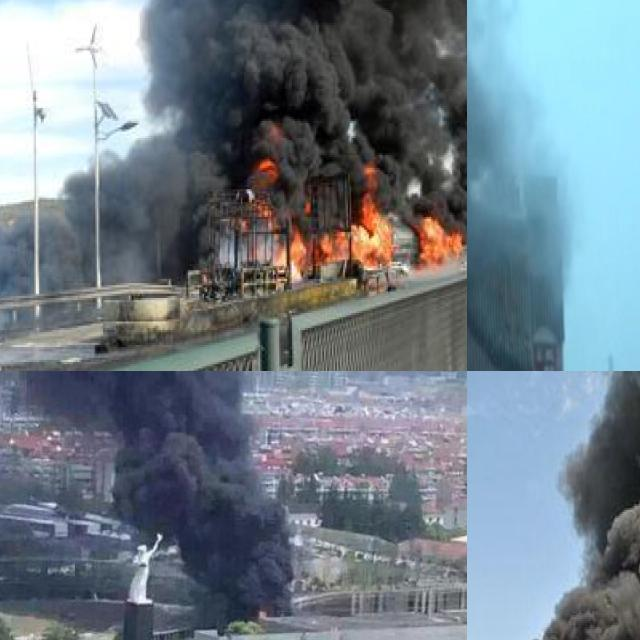fire: (249, 157, 402, 270), (415, 213, 460, 264)
smoke: (0, 0, 467, 281), (0, 371, 292, 619), (467, 371, 640, 640), (467, 0, 576, 341)
